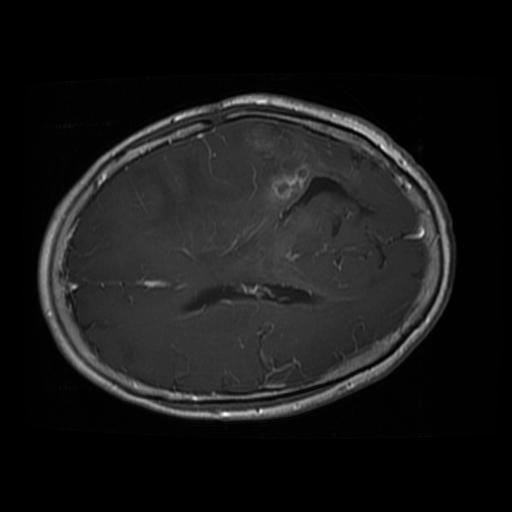glioma: (247, 121, 312, 215)
